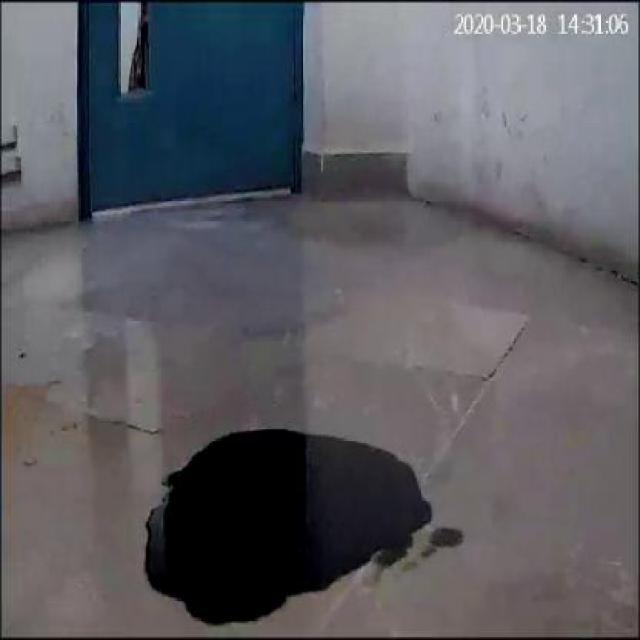spill: (144, 422, 430, 626)
